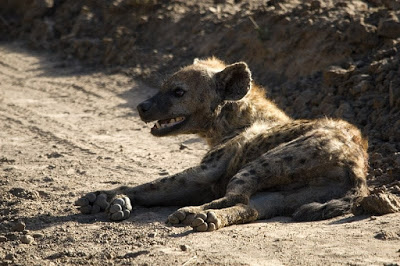hyena: (81, 53, 369, 230)
